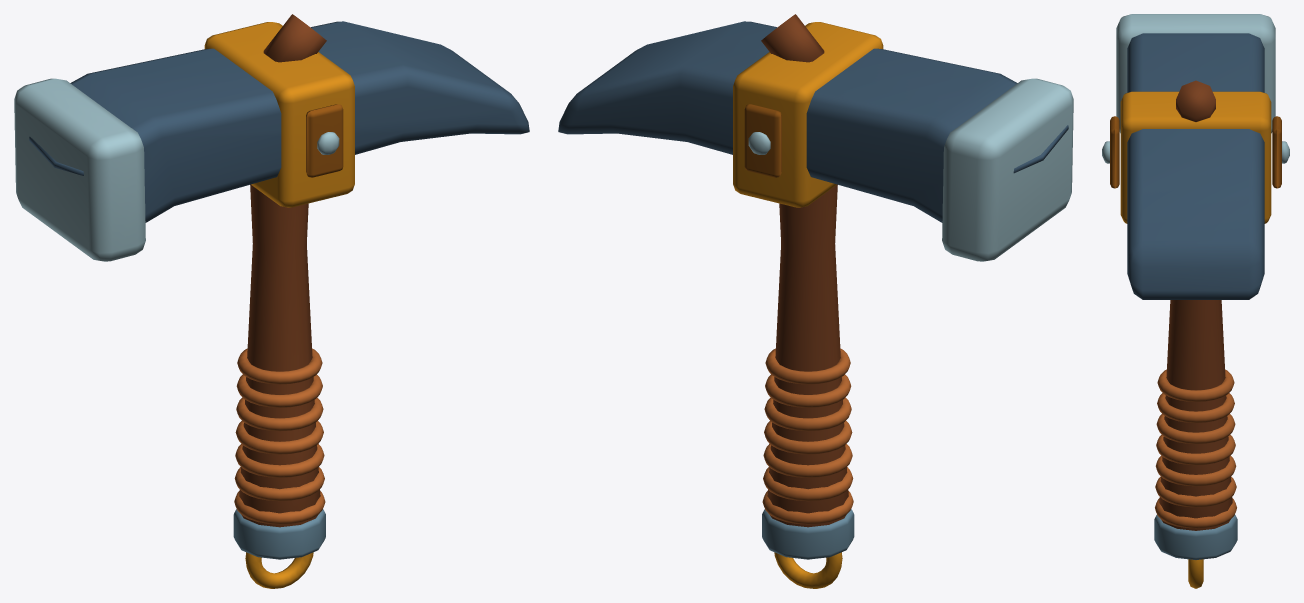
Rendered from mining_hammer.glb.
The picture shows the model from 3 angles, left to right: view 1: azimuth 30°, elevation 25°; view 2: azimuth 150°, elevation 25°; view 3: azimuth 270°, elevation 25°; orthographic projection. The views are drawn at different scales.
Visible parts, largest first — view 1: mining_hammer_runtime; view 2: mining_hammer_runtime; view 3: mining_hammer_runtime.
Boxes of the visible parts, box(x1,y1,x2,y2) form: mining_hammer_runtime: box(14, 14, 529, 588); mining_hammer_runtime: box(558, 14, 1073, 588); mining_hammer_runtime: box(1102, 14, 1289, 588).
Bounding box in the file's own units: 1.08 × 1.3 × 0.4318.
1 material, 1 textured.
